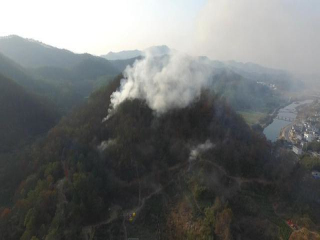smoke: (99, 12, 249, 126)
